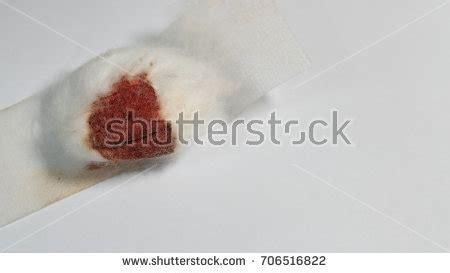cotton: (43, 45, 217, 172)
